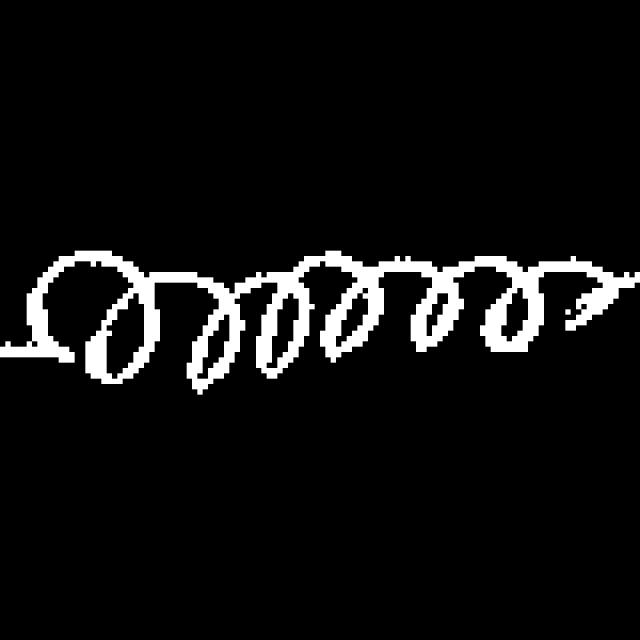inductor: (16, 205, 639, 415)
